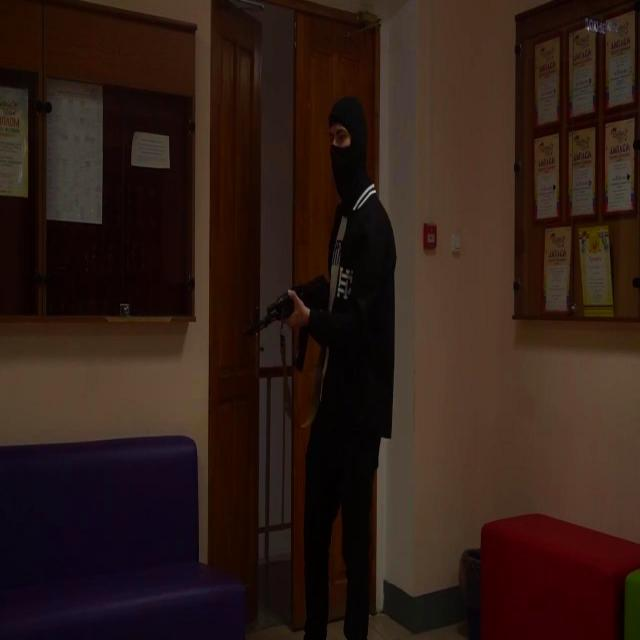gun: (244, 96, 397, 640), (244, 272, 338, 373)
